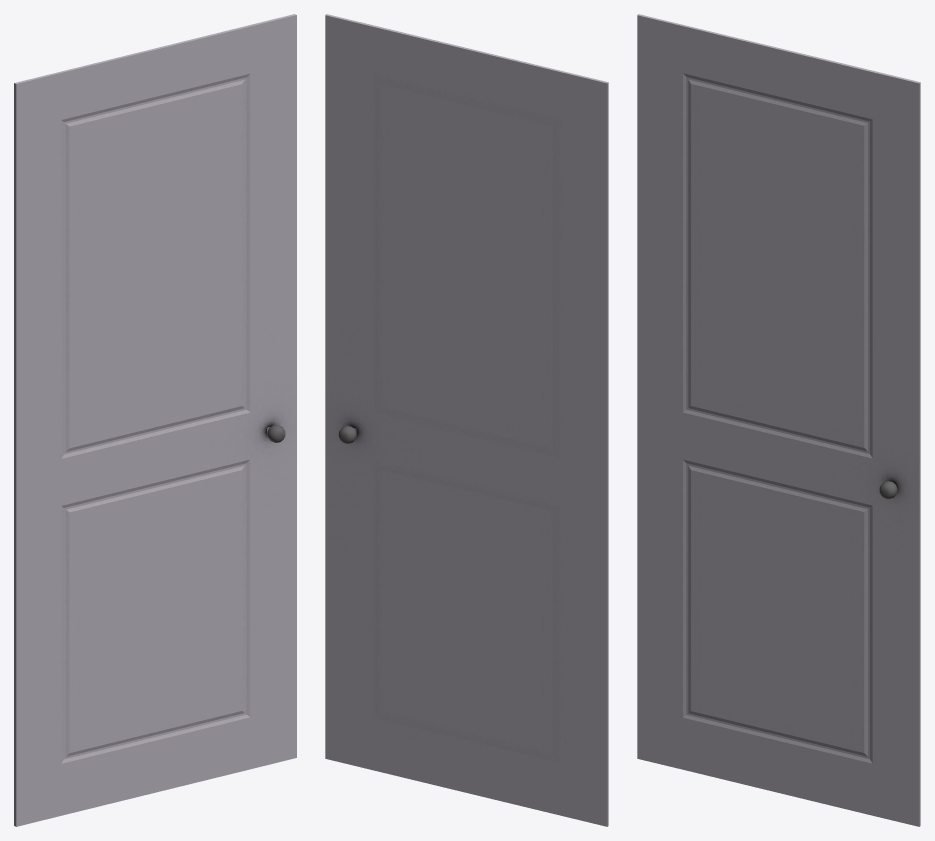
File: door1.glb
3 renders of one model, left to right at view 1: azimuth 30°, elevation 25°; view 2: azimuth 150°, elevation 25°; view 3: azimuth 330°, elevation 25°, orthographic.
Parts seen in each view (by area): view 1: frl_apartment_door_01; view 2: frl_apartment_door_01; view 3: frl_apartment_door_01.
Boxes of the visible parts, box(x1,y1,x2,y2) form: frl_apartment_door_01: box(14, 14, 296, 826); frl_apartment_door_01: box(325, 14, 608, 826); frl_apartment_door_01: box(637, 14, 920, 826).
Size of the model in its own units: 0.8227 by 2.07 by 0.1022.
1 material, 1 textured.
